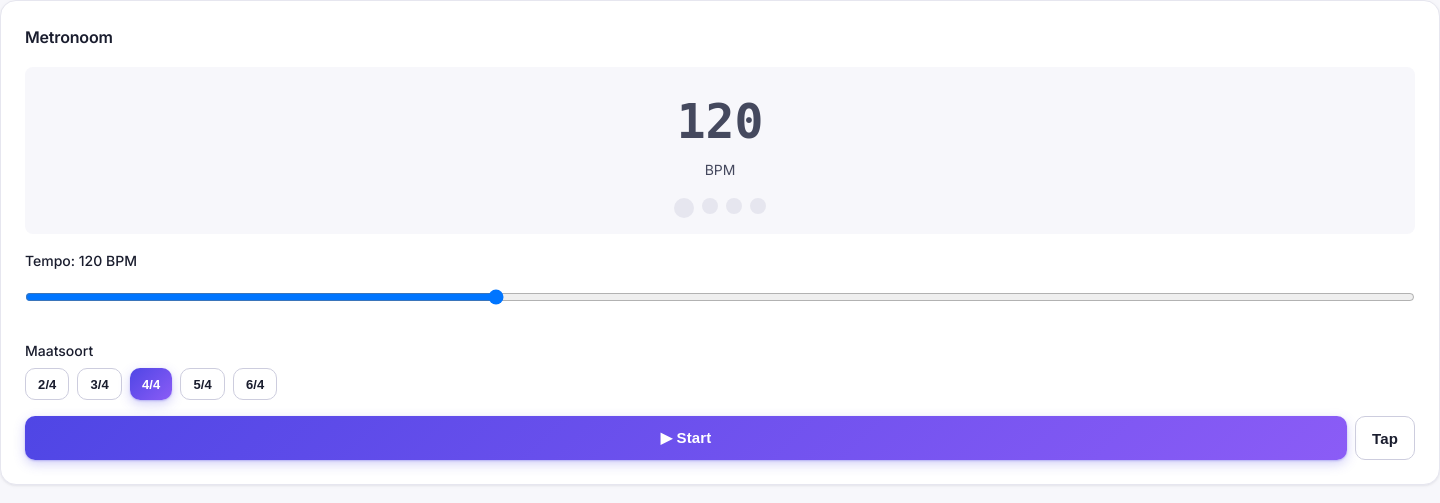
it: Metronome: starten en stoppen › stopt met tikken zodra de gebruiker op stop drukt
Click the button "▶ Start".
click(686, 438)  # box [25,416,1347,460]
Wait 25 ms
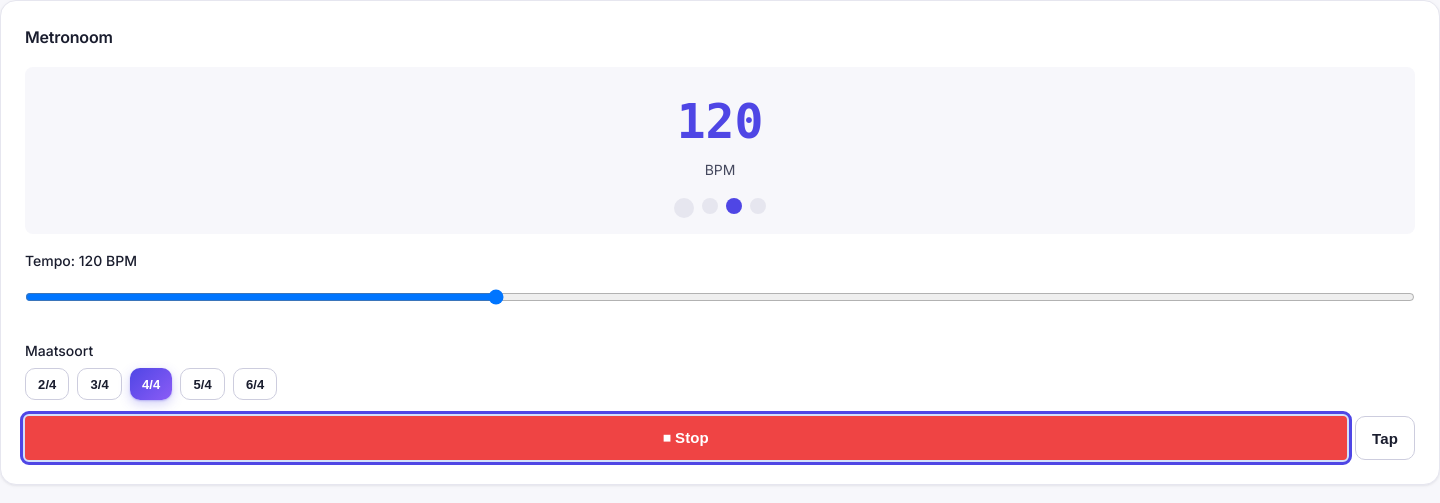
Click the button "⏹ Stop".
click(686, 438)  # box [25,416,1347,460]
Wait 25 ms
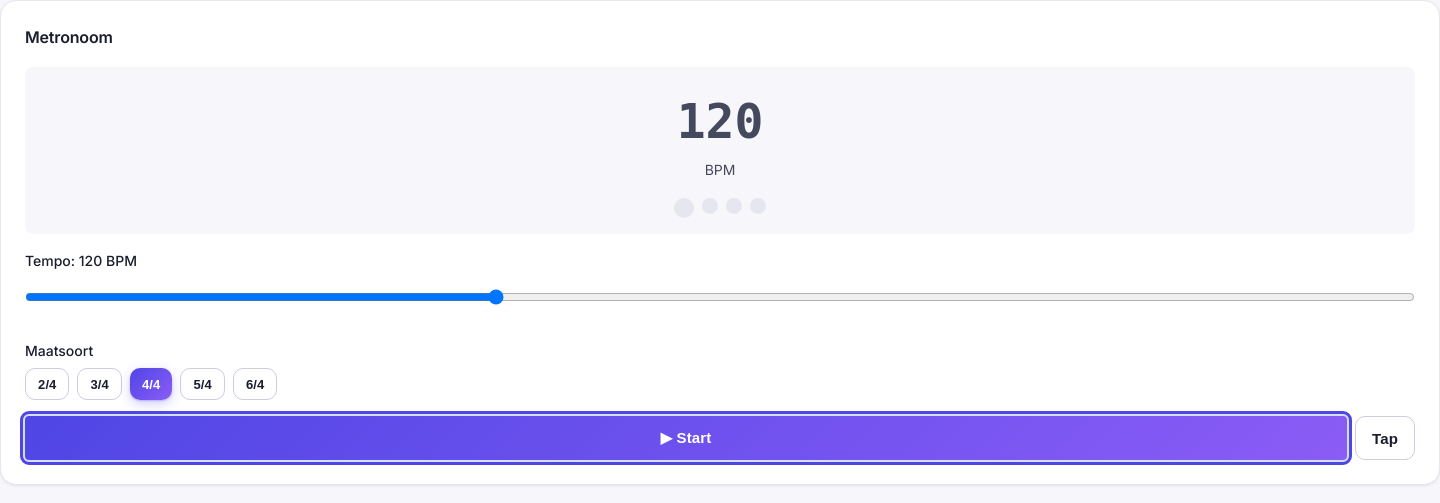
Expected: the button "▶ Start" is shown, [25,416,1347,460]
